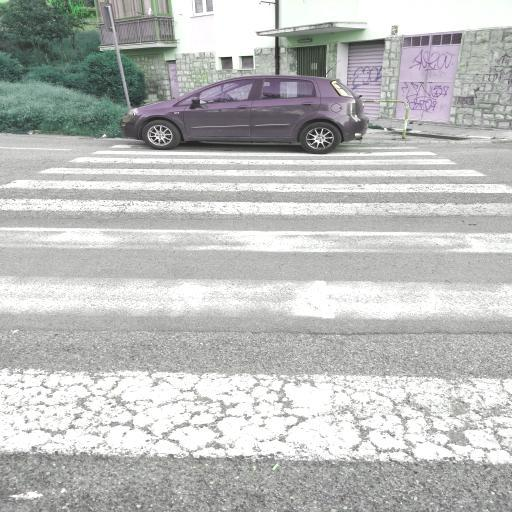crosswalk: (0, 218, 512, 339), (36, 155, 496, 182)
